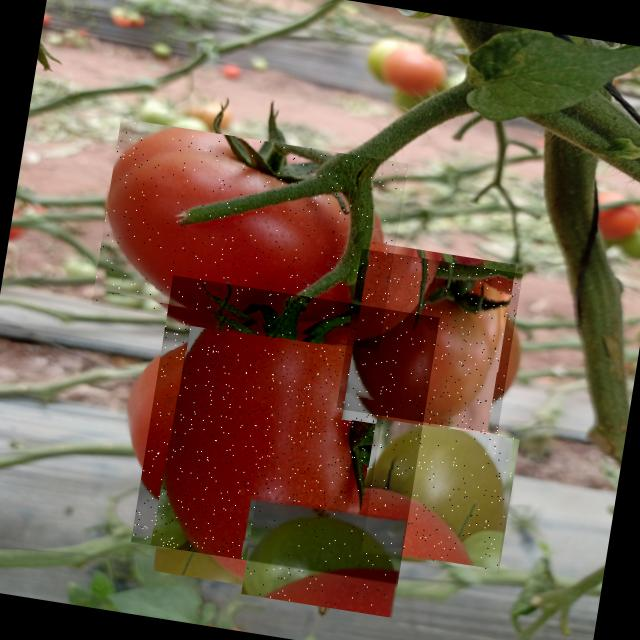Ripe Tomato: (131, 276, 440, 584), (92, 118, 408, 350), (337, 248, 522, 434)
Unripe Tomato: (361, 416, 518, 573), (241, 496, 408, 618)
